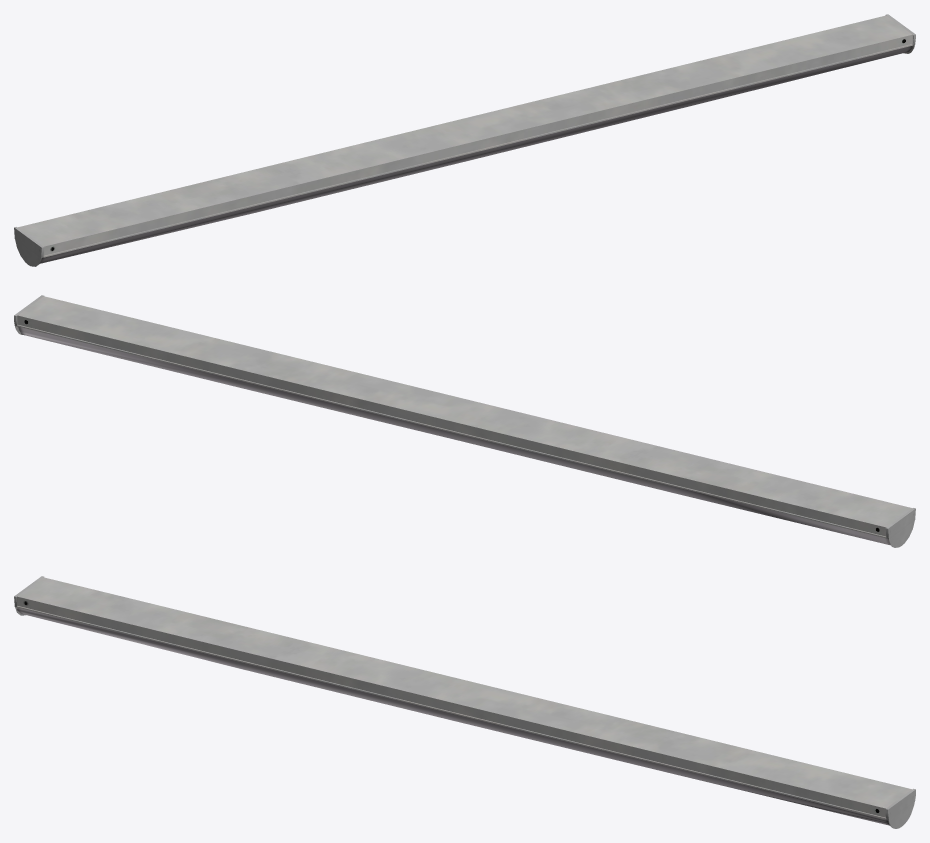
Rendered from mounted_fluorescent_lights.glb.
3 views of the same model, one above another, from view 1: azimuth 30°, elevation 25°; view 2: azimuth 150°, elevation 25°; view 3: azimuth 330°, elevation 25° (orthographic).
Visible parts, largest first — view 1: mounted_fluorescent_lights_g; view 2: mounted_fluorescent_lights_g; view 3: mounted_fluorescent_lights_g.
Part boxes in pixels (bbox=[...]): mounted_fluorescent_lights_g: bbox=[14, 14, 915, 266]; mounted_fluorescent_lights_g: bbox=[14, 295, 915, 547]; mounted_fluorescent_lights_g: bbox=[14, 576, 915, 828].
Size of the model in its own units: 0.9055 by 0.027 by 0.0502.
Materials: 2 (2 with a texture image).
